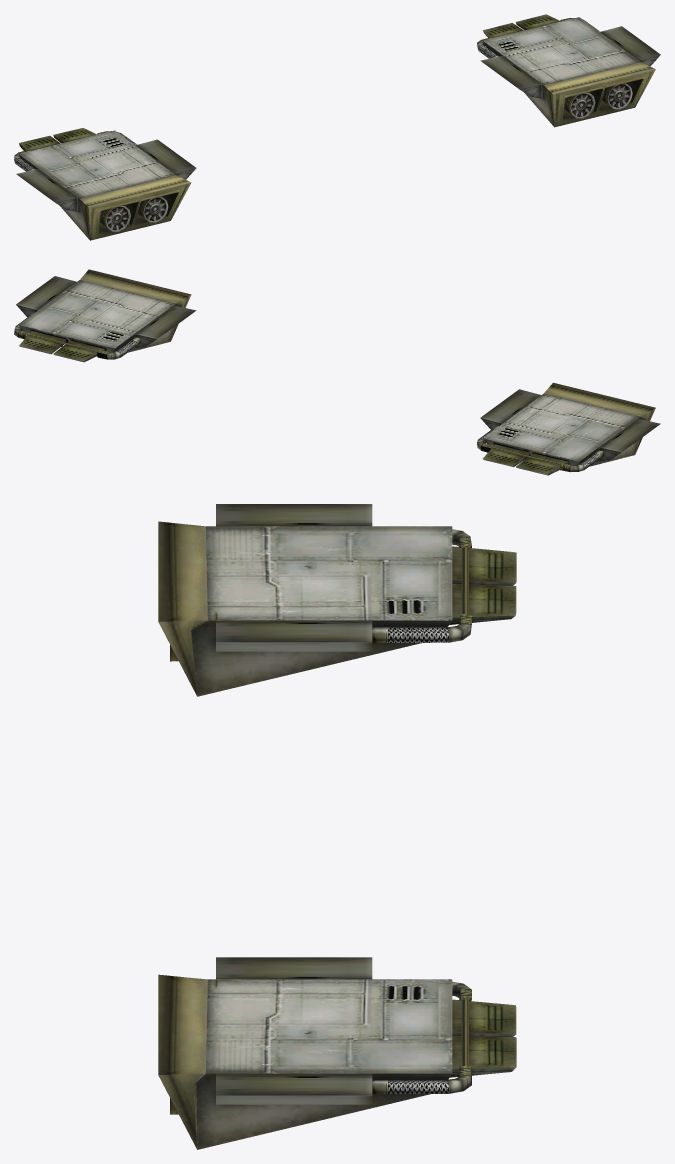
The model's file is z95_missile_pod_s01_l0.fbx.
3 renders of one model, top to bottom at view 1: azimuth 30°, elevation 25°; view 2: azimuth 150°, elevation 25°; view 3: azimuth 270°, elevation 25°, orthographic. The views are drawn at different scales.
Parts seen in each view (by area): view 1: mesh_node; view 2: mesh_node; view 3: mesh_node.
Boxes of the visible parts, box(x1,y1,x2,y2) form: mesh_node: box(14, 14, 660, 240); mesh_node: box(14, 269, 660, 475); mesh_node: box(158, 504, 516, 1149).
Bounding box in the file's own units: 14.38 × 0.9713 × 3.68.
1 material, 1 textured.
